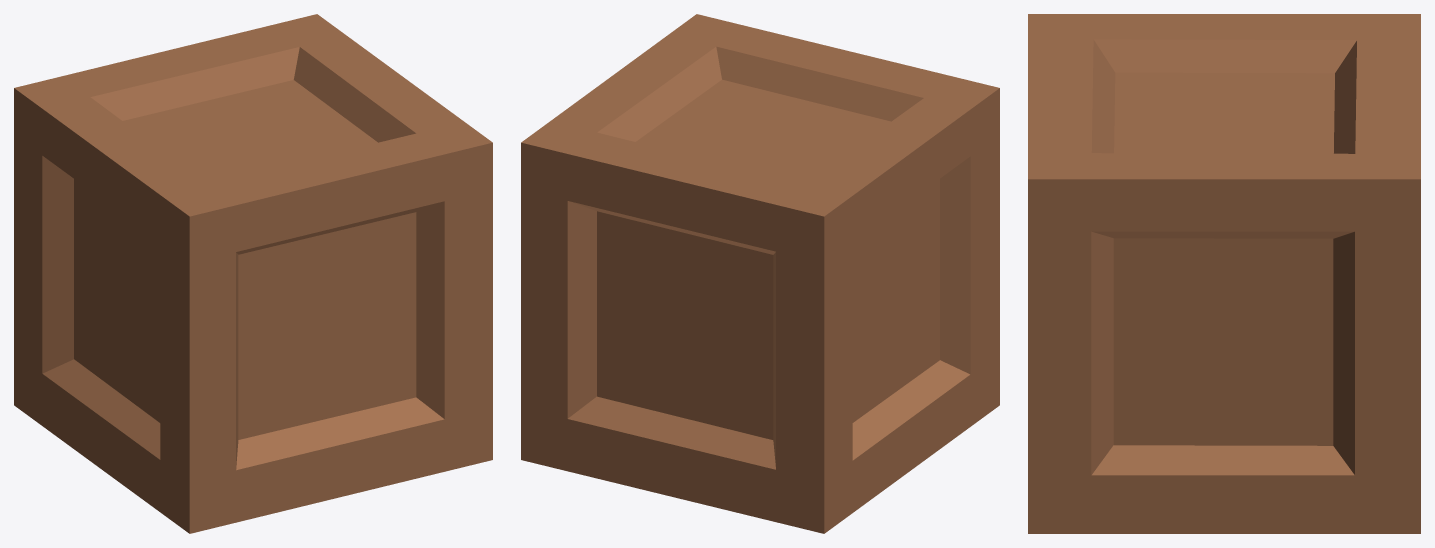
The model's file is Woodbox_03.fbx.
3 views of the same model, side by side, from view 1: azimuth 30°, elevation 25°; view 2: azimuth 150°, elevation 25°; view 3: azimuth 270°, elevation 25° (orthographic). The views are drawn at different scales.
Visible parts, largest first — view 1: Woodbox_03; view 2: Woodbox_03; view 3: Woodbox_03.
Part boxes in pixels (left/top/right/bottom): Woodbox_03: left=14, top=14, right=492, bottom=533; Woodbox_03: left=521, top=14, right=999, bottom=533; Woodbox_03: left=1028, top=14, right=1420, bottom=533.
Size of the model in its own units: 64.48 by 64.5 by 64.73.
